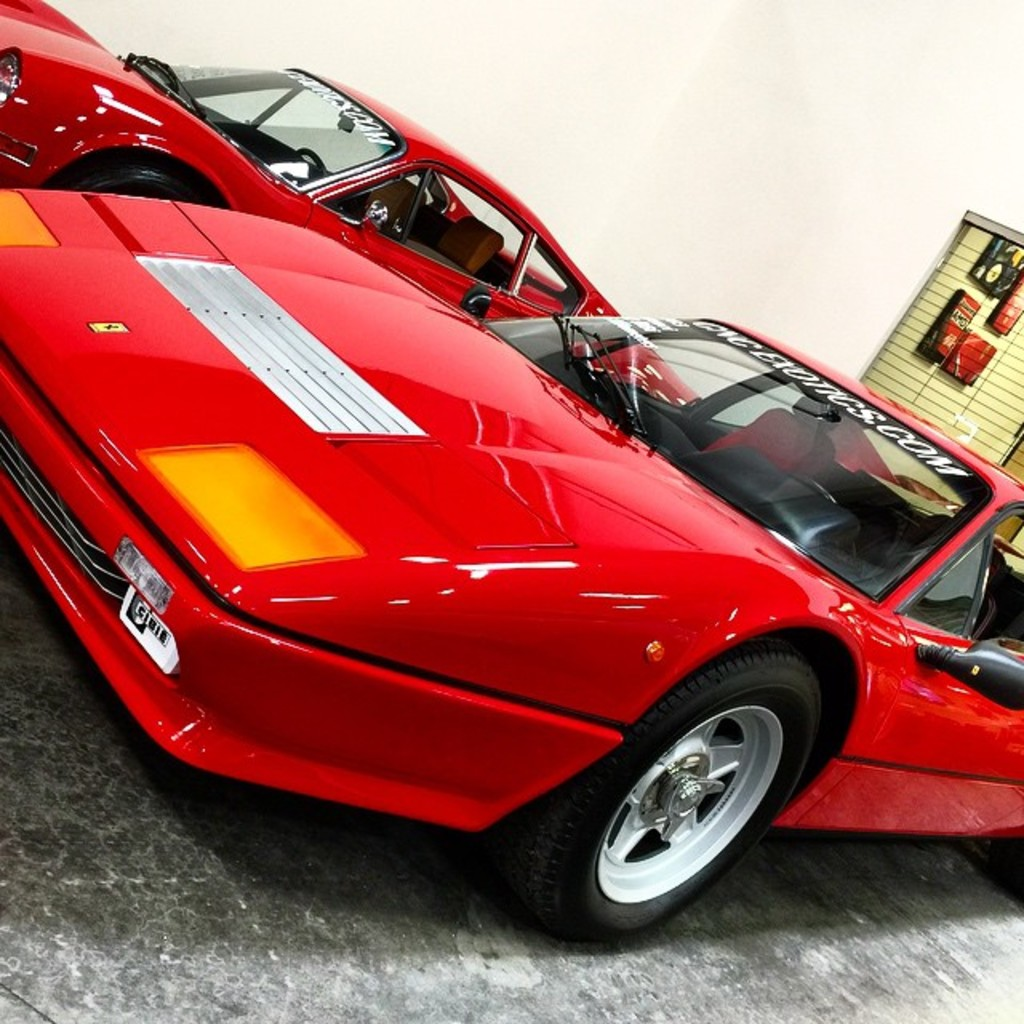Car: (0, 182, 1022, 950), (0, 0, 704, 404)
